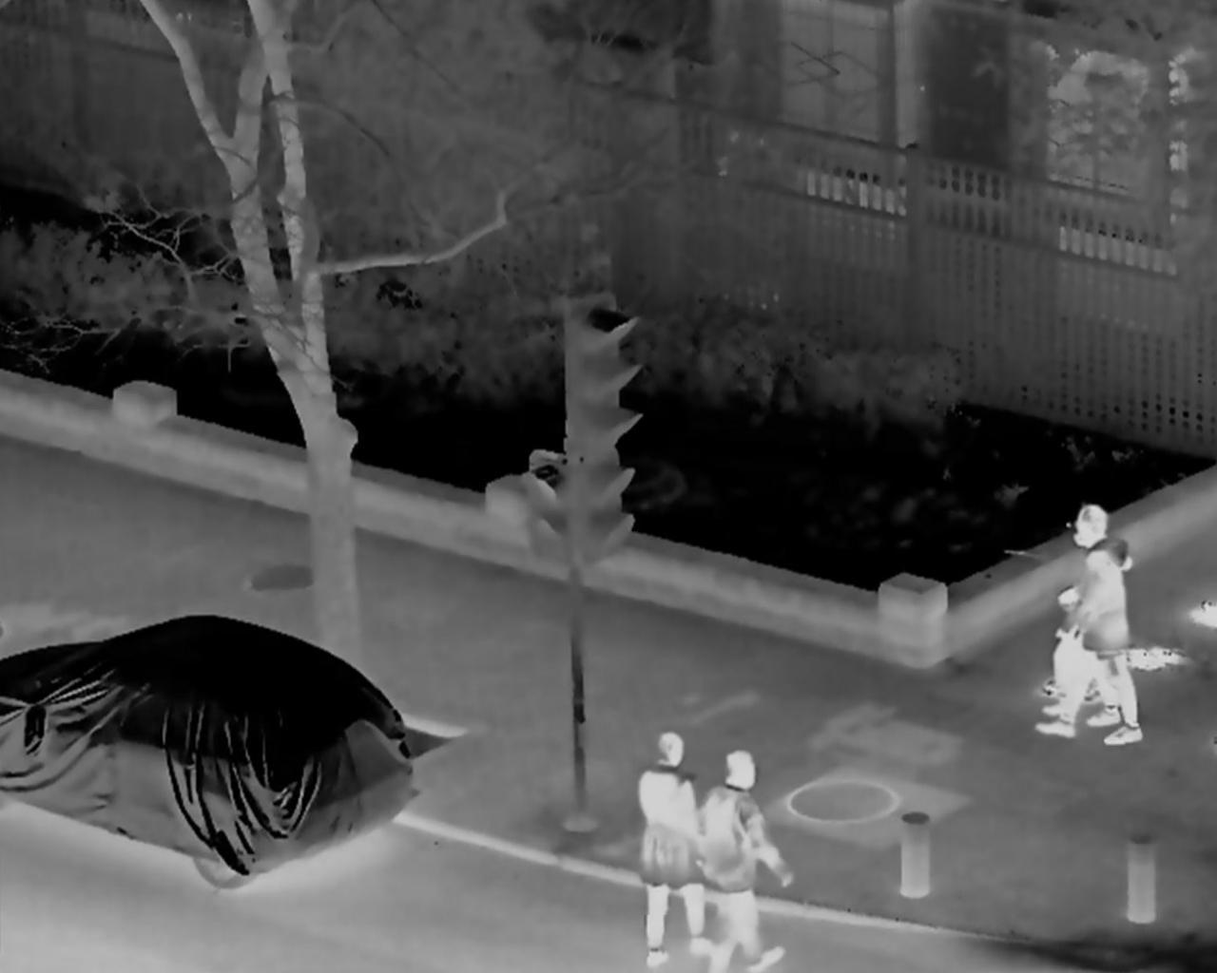person: (1039, 493, 1142, 743), (696, 743, 795, 973), (638, 735, 719, 973)
